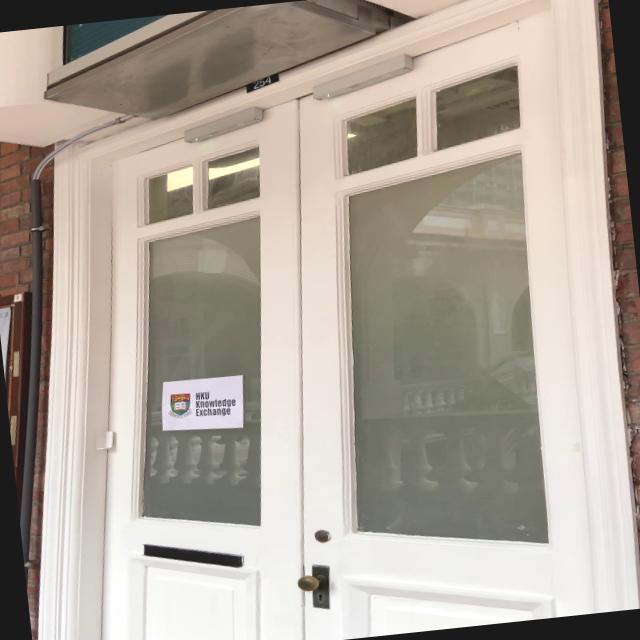room254: (242, 72, 282, 95)
